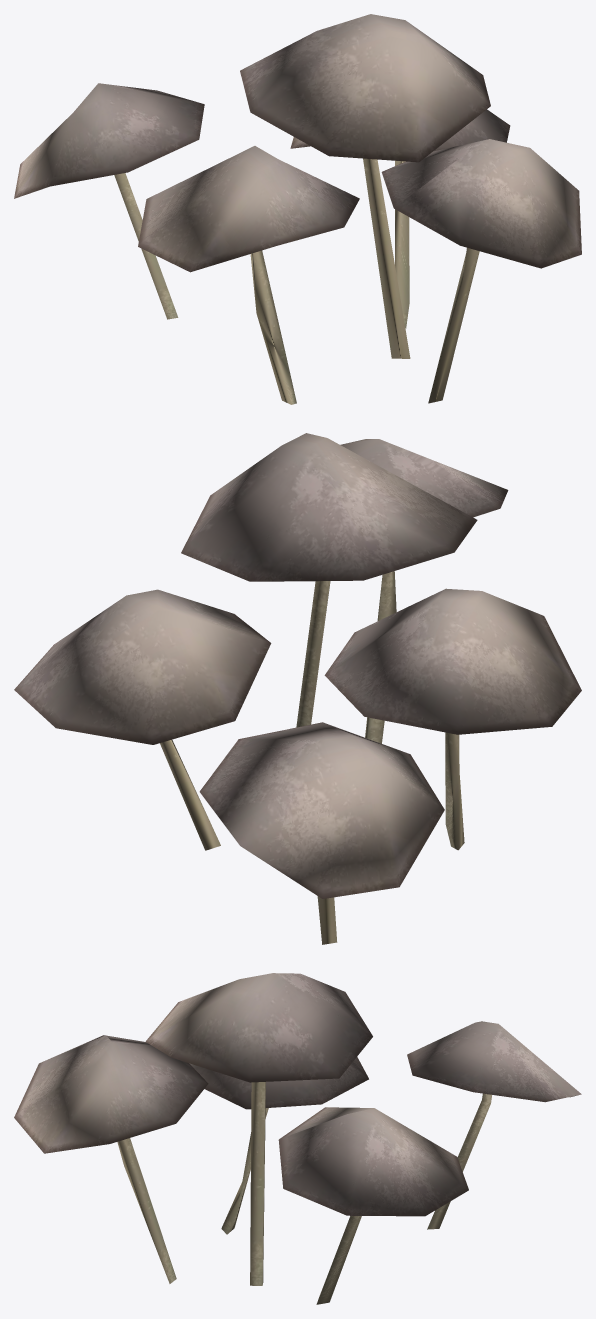
File: mushroom_2-CWi6ApSO.glb
The picture shows the model from 3 angles, top to bottom: view 1: azimuth 30°, elevation 25°; view 2: azimuth 150°, elevation 25°; view 3: azimuth 270°, elevation 25°; orthographic projection. The views are drawn at different scales.
Visible parts, largest first — view 1: Mushroom_Common; view 2: Mushroom_Common; view 3: Mushroom_Common.
Part boxes in pixels (x1,y1,x2,y2): Mushroom_Common: [14, 14, 581, 404]; Mushroom_Common: [14, 433, 581, 944]; Mushroom_Common: [14, 973, 581, 1304].
Size of the model in its own units: 0.5637 by 0.4612 by 0.7762.
1 material, 1 textured.
